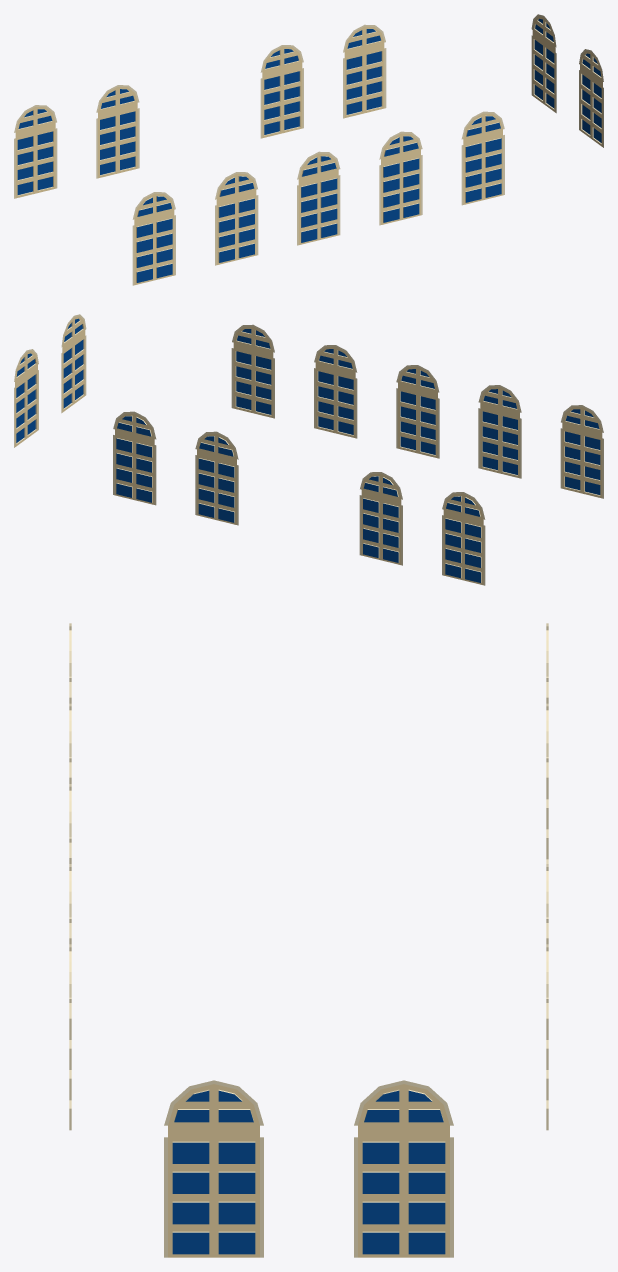
File: Salle_1_Window.fbx
The picture shows the model from 3 angles, top to bottom: view 1: azimuth 30°, elevation 25°; view 2: azimuth 150°, elevation 25°; view 3: azimuth 270°, elevation 25°; orthographic projection. The views are drawn at different scales.
Visible parts, largest first — view 1: Salle_1_Window; view 2: Salle_1_Window; view 3: Salle_1_Window.
Boxes of the visible parts, x1,y1,x2,y2 form: Salle_1_Window: (14,14,603,285); Salle_1_Window: (14,314,603,585); Salle_1_Window: (69,623,548,1257).
Size of the model in its own units: 4821 by 824 by 2020.
Materials: 1 (1 with a texture image).
